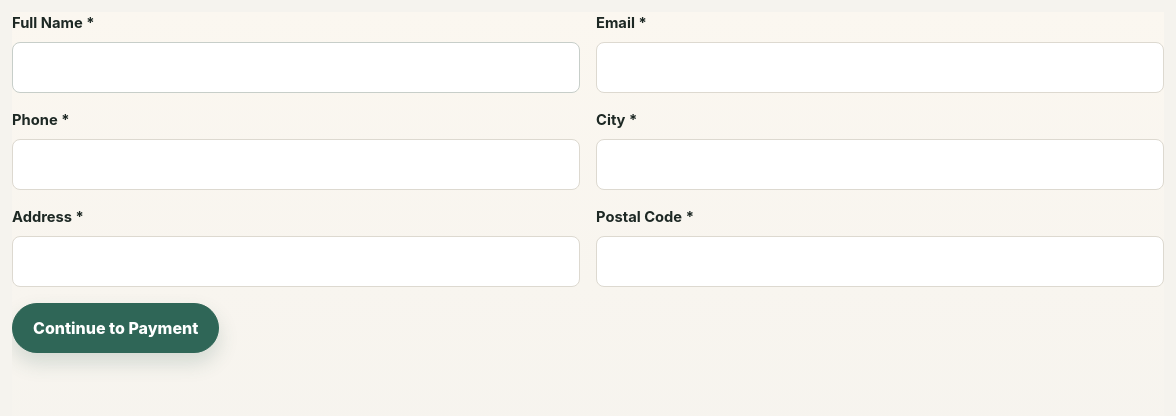
it: DeliveryForm › shows an email validation error
Type "Mina" into the field labelled "Full Name *". click: (296, 68)
box: left=12, top=42, right=580, bottom=93
Type "bad-email" into the field labelled "Email *". click: (880, 68)
box: left=596, top=42, right=1164, bottom=93
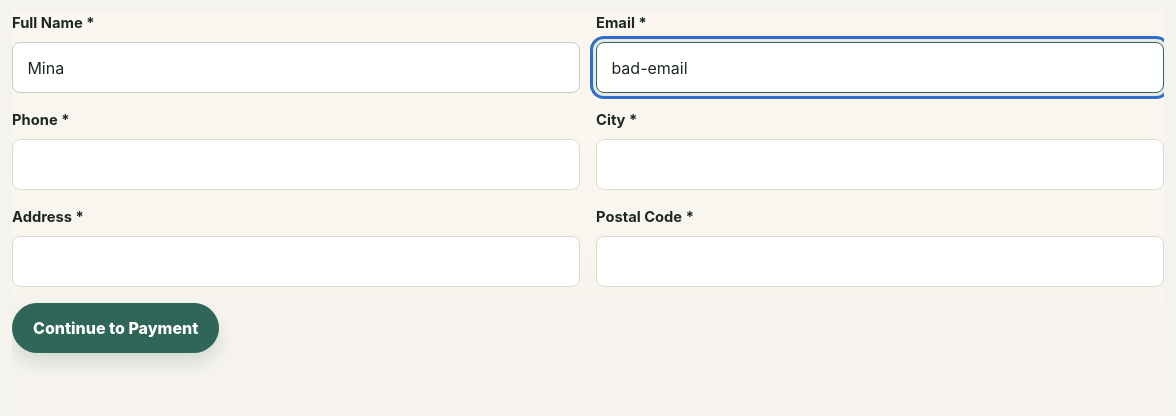
Type "5551234567" into the field labelled "Phone *". click: (296, 165)
box: left=12, top=139, right=580, bottom=190
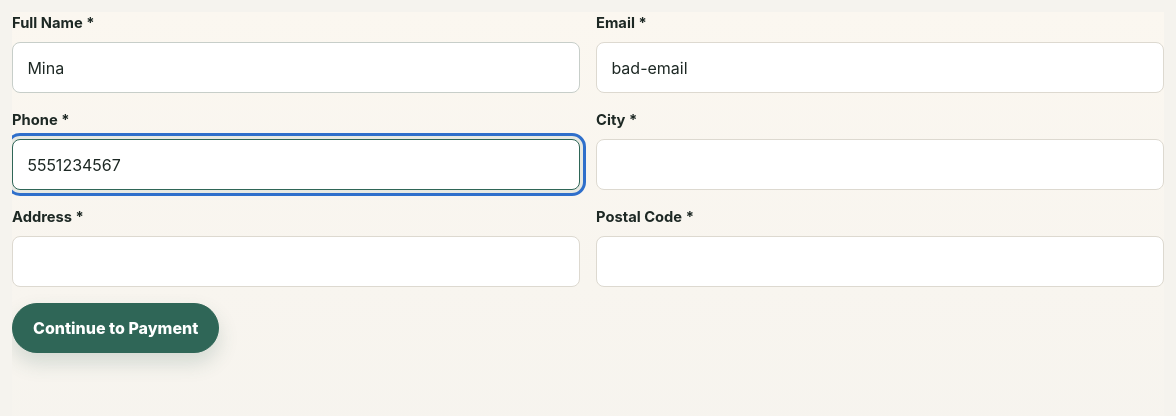
Type "Tehran" into the field labelled "City *". click: (880, 165)
box: left=596, top=139, right=1164, bottom=190
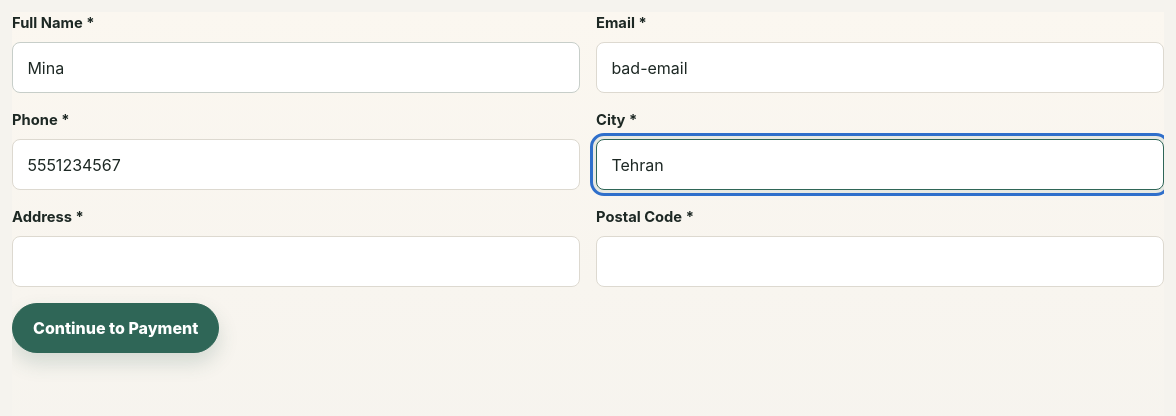
Type "42 Market Street" into the field labelled "Address *". click: (296, 262)
box: left=12, top=236, right=580, bottom=287
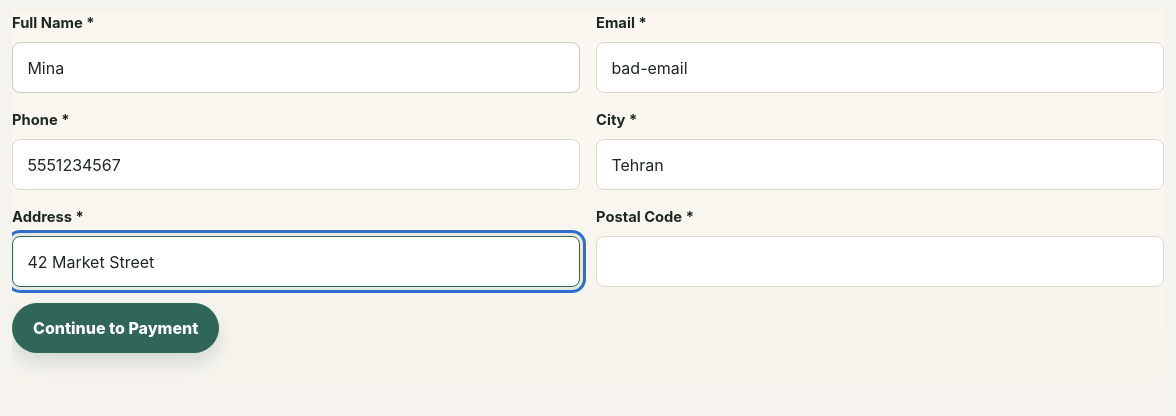
Type "12345" into the field labelled "Postal Code *". click: (880, 262)
box: left=596, top=236, right=1164, bottom=287
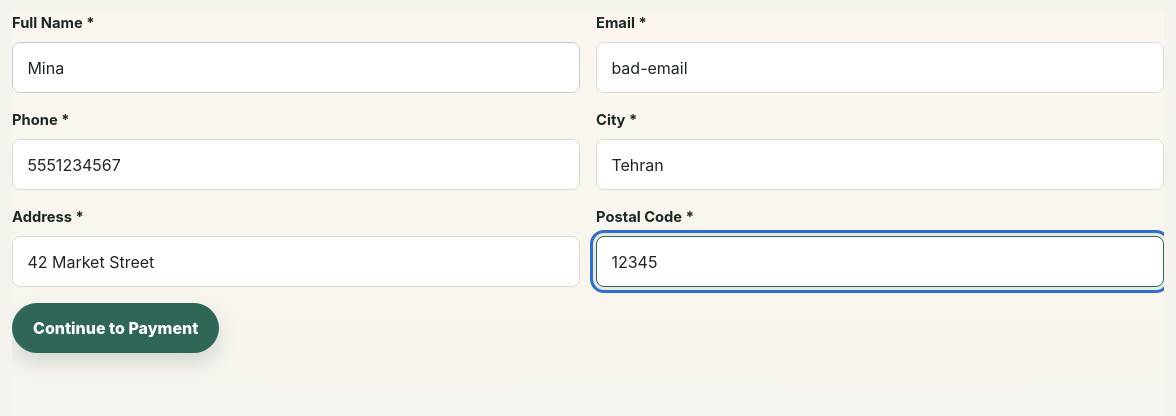
Click the button "Continue to Payment". click: (116, 328)
box: left=12, top=303, right=219, bottom=353
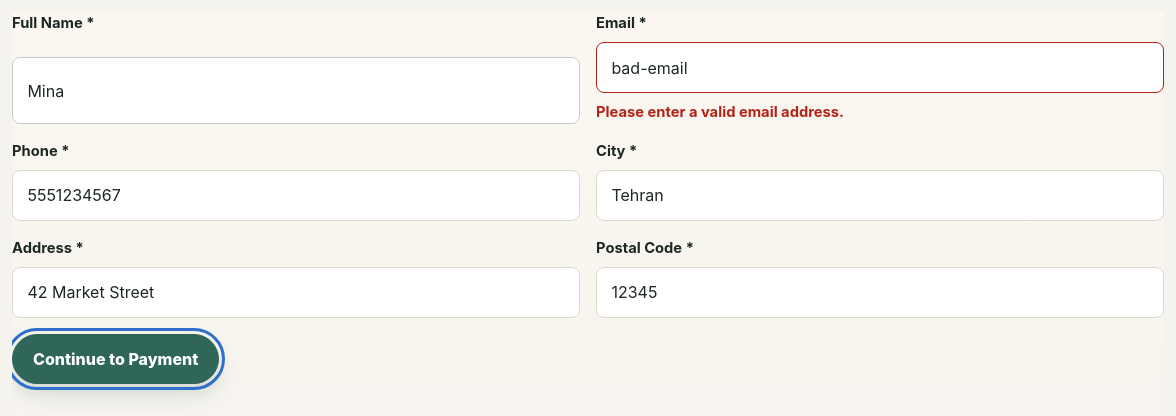
Expected: the text "Please enter a valid email address." is shown, left=596, top=103, right=844, bottom=121
